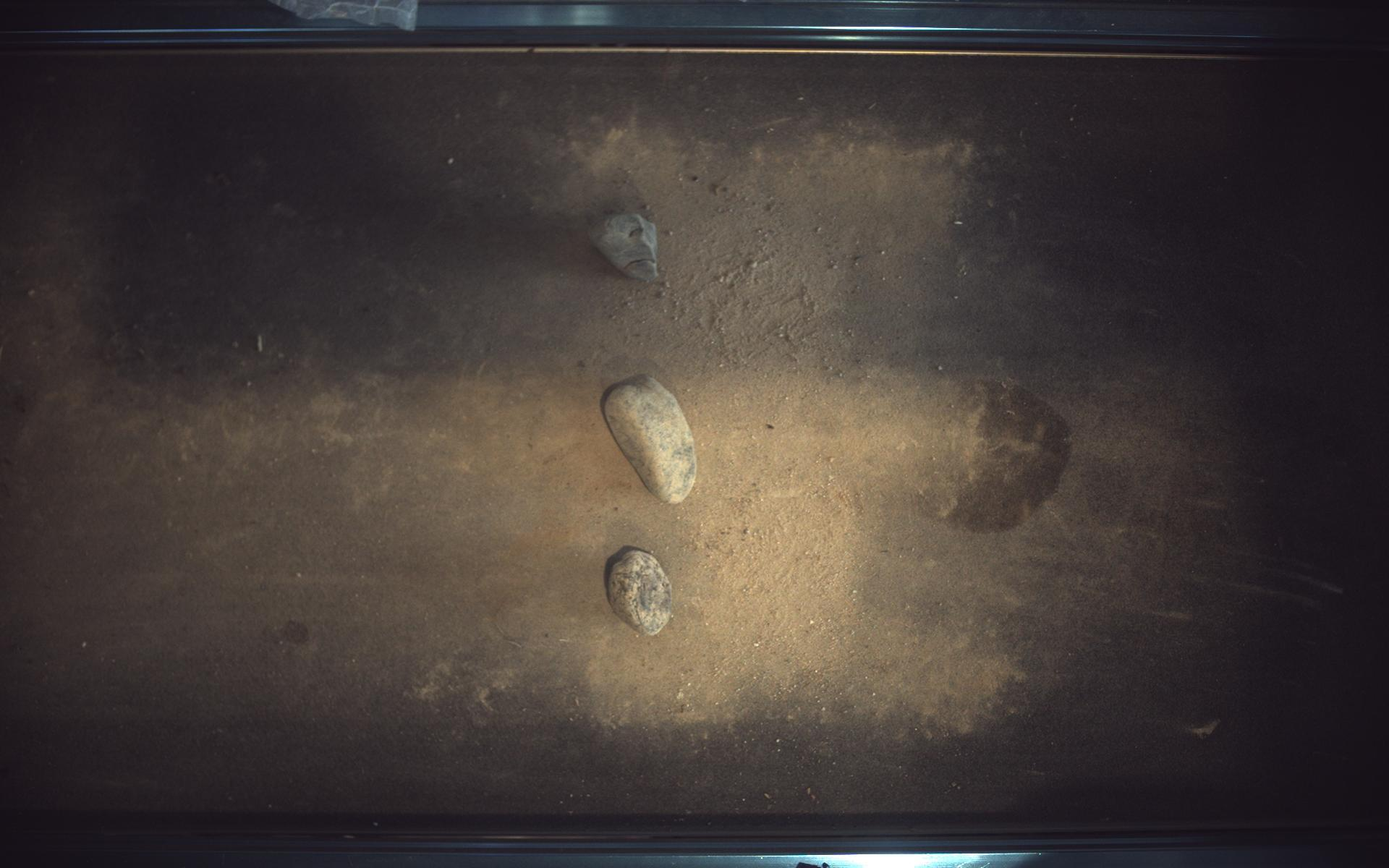stone: (604, 375, 698, 504), (605, 547, 673, 637), (590, 213, 658, 281)
